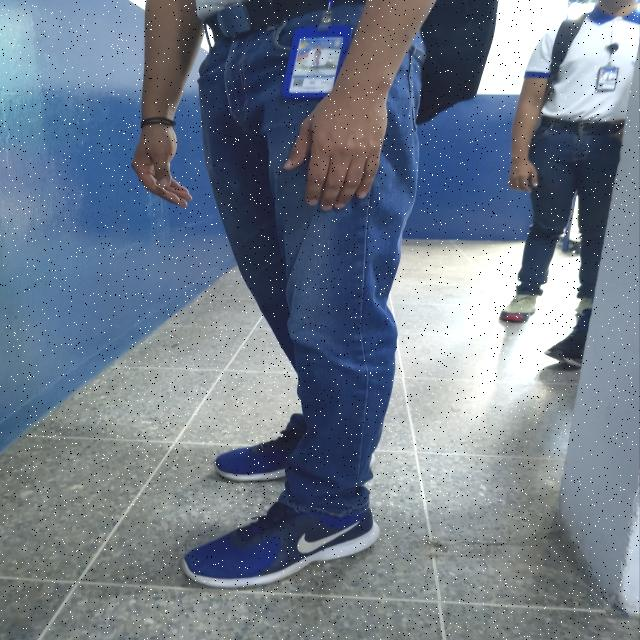carnet: (289, 37, 343, 93), (597, 67, 618, 90)
pantalon_oscuro: (198, 8, 426, 519), (516, 120, 624, 299)
uniforme_superior: (523, 4, 640, 122)
